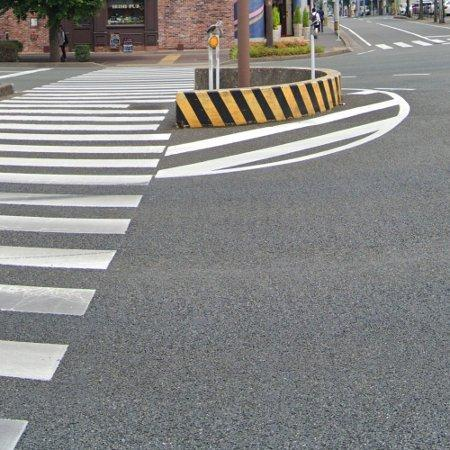crosswalks: (0, 63, 197, 450)
